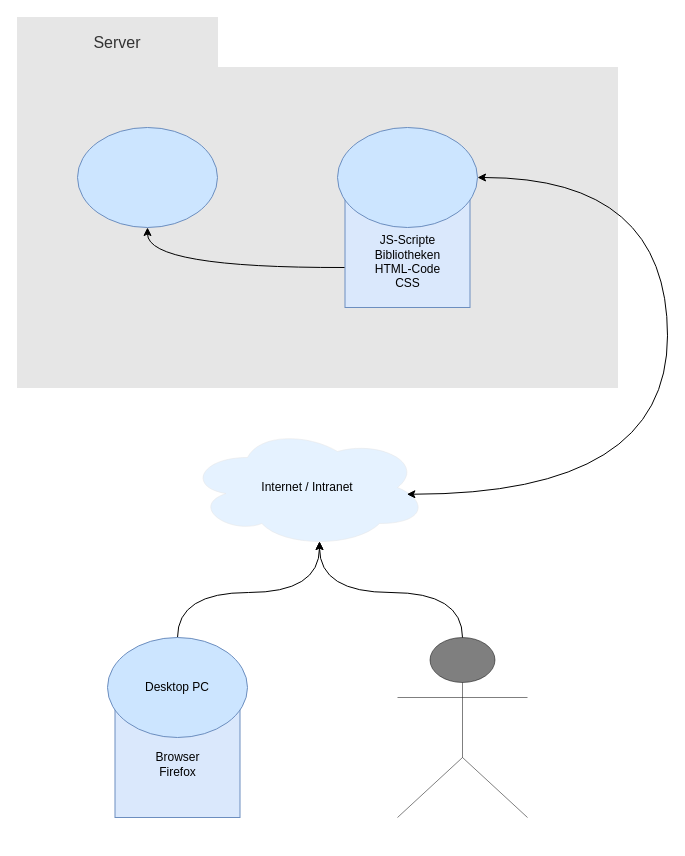
This 685x856 diagram has some shape labels left out. The shapes that lost their labels are listed below. From the top down, each one's centre as x and y in pixels, then its label:
[147,177]: Datenbank Neo4j
[407,177]: Webserver Apache
[462,727]: User
